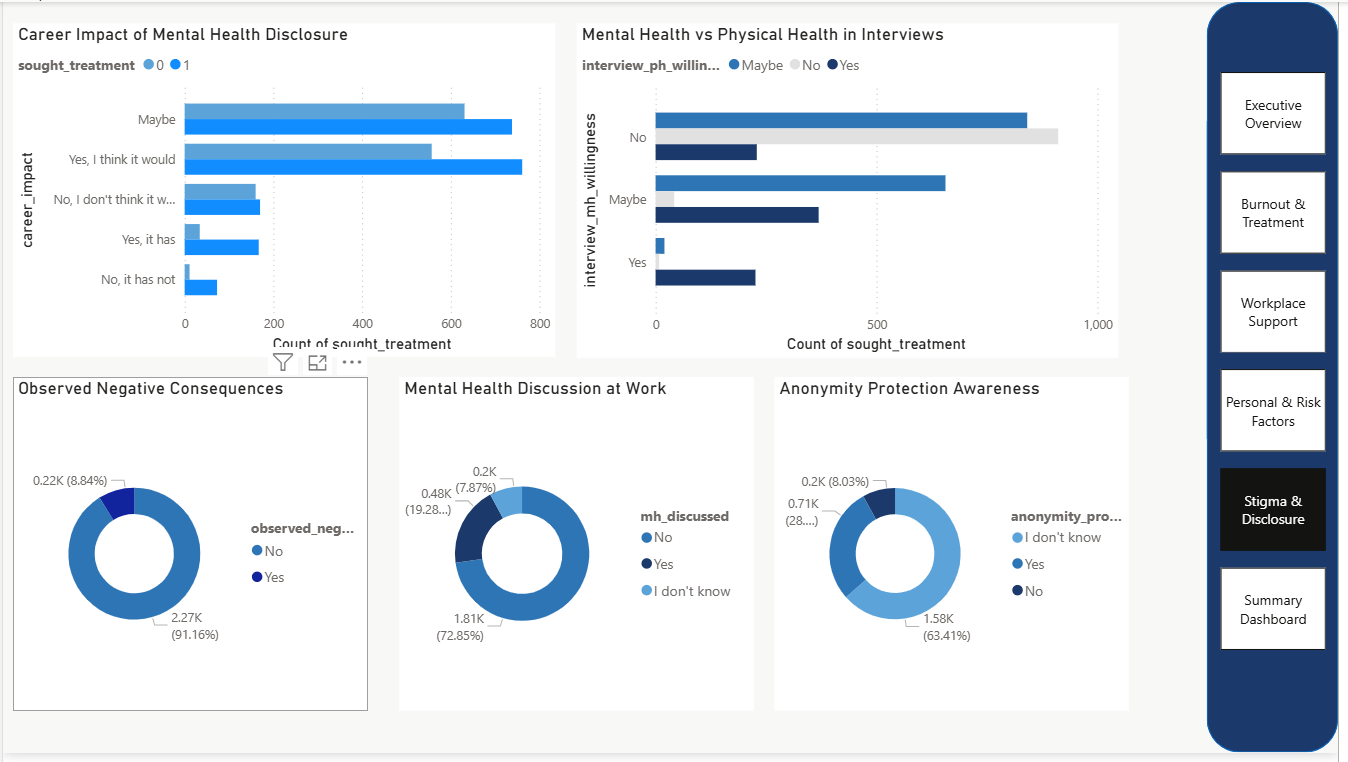

The page's visual inventory and layout, read from the dashboard file:
{"tool":"powerbi","page":{"name":"Stigma & Disclosure","canvas":[1280,720],"ordinal":4},"visuals":[{"type":"clusteredBarChart","title":"Career Impact of Mental Health Disclosure","fields":{"Category":["survey_tbl.career_impact"],"Y":["CountNonNull(survey_tbl.sought_treatment)"],"Series":["survey_tbl.sought_treatment"]},"box":[10,20,520,320],"z":0},{"type":"clusteredBarChart","title":"Mental Health vs Physical Health in Interviews","fields":{"Category":["survey_tbl.interview_mh_willingness"],"Y":["CountNonNull(survey_tbl.sought_treatment)"],"Series":["survey_tbl.interview_ph_willingness"]},"box":[550,20,519.5,320.8],"z":1000},{"type":"donutChart","title":"Observed Negative Consequences","fields":{"Category":["survey_tbl.observed_neg_consequences"],"Y":["CountNonNull(survey_tbl.sought_treatment)"]},"box":[10,360,340,320],"z":2000},{"type":"donutChart","title":"Mental Health Discussion at Work","fields":{"Category":["survey_tbl.mh_discussed"],"Y":["CountNonNull(survey_tbl.sought_treatment)"]},"box":[380,360,340,320],"z":3000},{"type":"donutChart","title":"Anonymity Protection Awareness","fields":{"Category":["survey_tbl.anonymity_protected"],"Y":["CountNonNull(survey_tbl.sought_treatment)"]},"box":[740,360,340,320],"z":4000},{"type":"shape","box":[1154,0,126,719.5],"z":5000},{"type":"pageNavigator","box":[1167.5,67.5,101.3,557.1],"z":6000}]}

Visuals, with their boxes in screenshot pixels (x1, y1, x2, y2), scaled from the page's 1280x720 canvas onto the 1348x762 screenshot:
"Career Impact of Mental Health Disclosure" clusteredBarChart: select_region(11, 21, 558, 360)
"Mental Health vs Physical Health in Interviews" clusteredBarChart: select_region(579, 21, 1126, 361)
"Observed Negative Consequences" donutChart: select_region(11, 381, 369, 720)
"Mental Health Discussion at Work" donutChart: select_region(400, 381, 758, 720)
"Anonymity Protection Awareness" donutChart: select_region(779, 381, 1137, 720)
shape: select_region(1215, 0, 1347, 761)
pageNavigator: select_region(1230, 71, 1336, 661)
